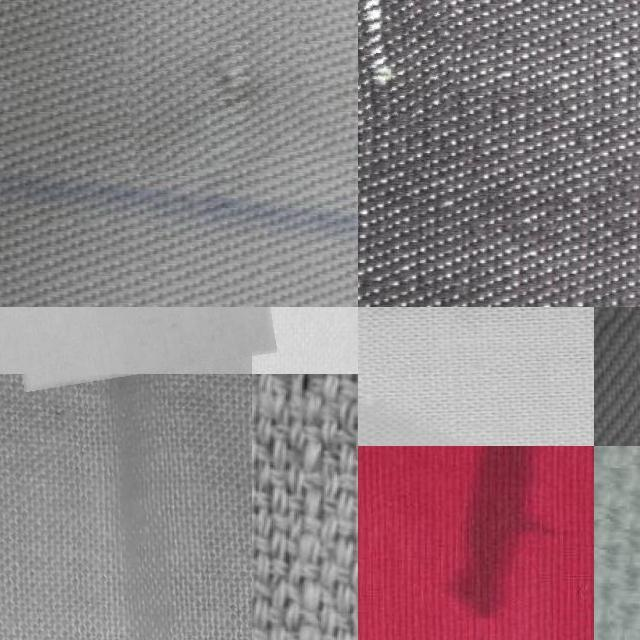Thread_other: (414, 446, 593, 629), (0, 307, 264, 383)
stains: (117, 0, 311, 169)
